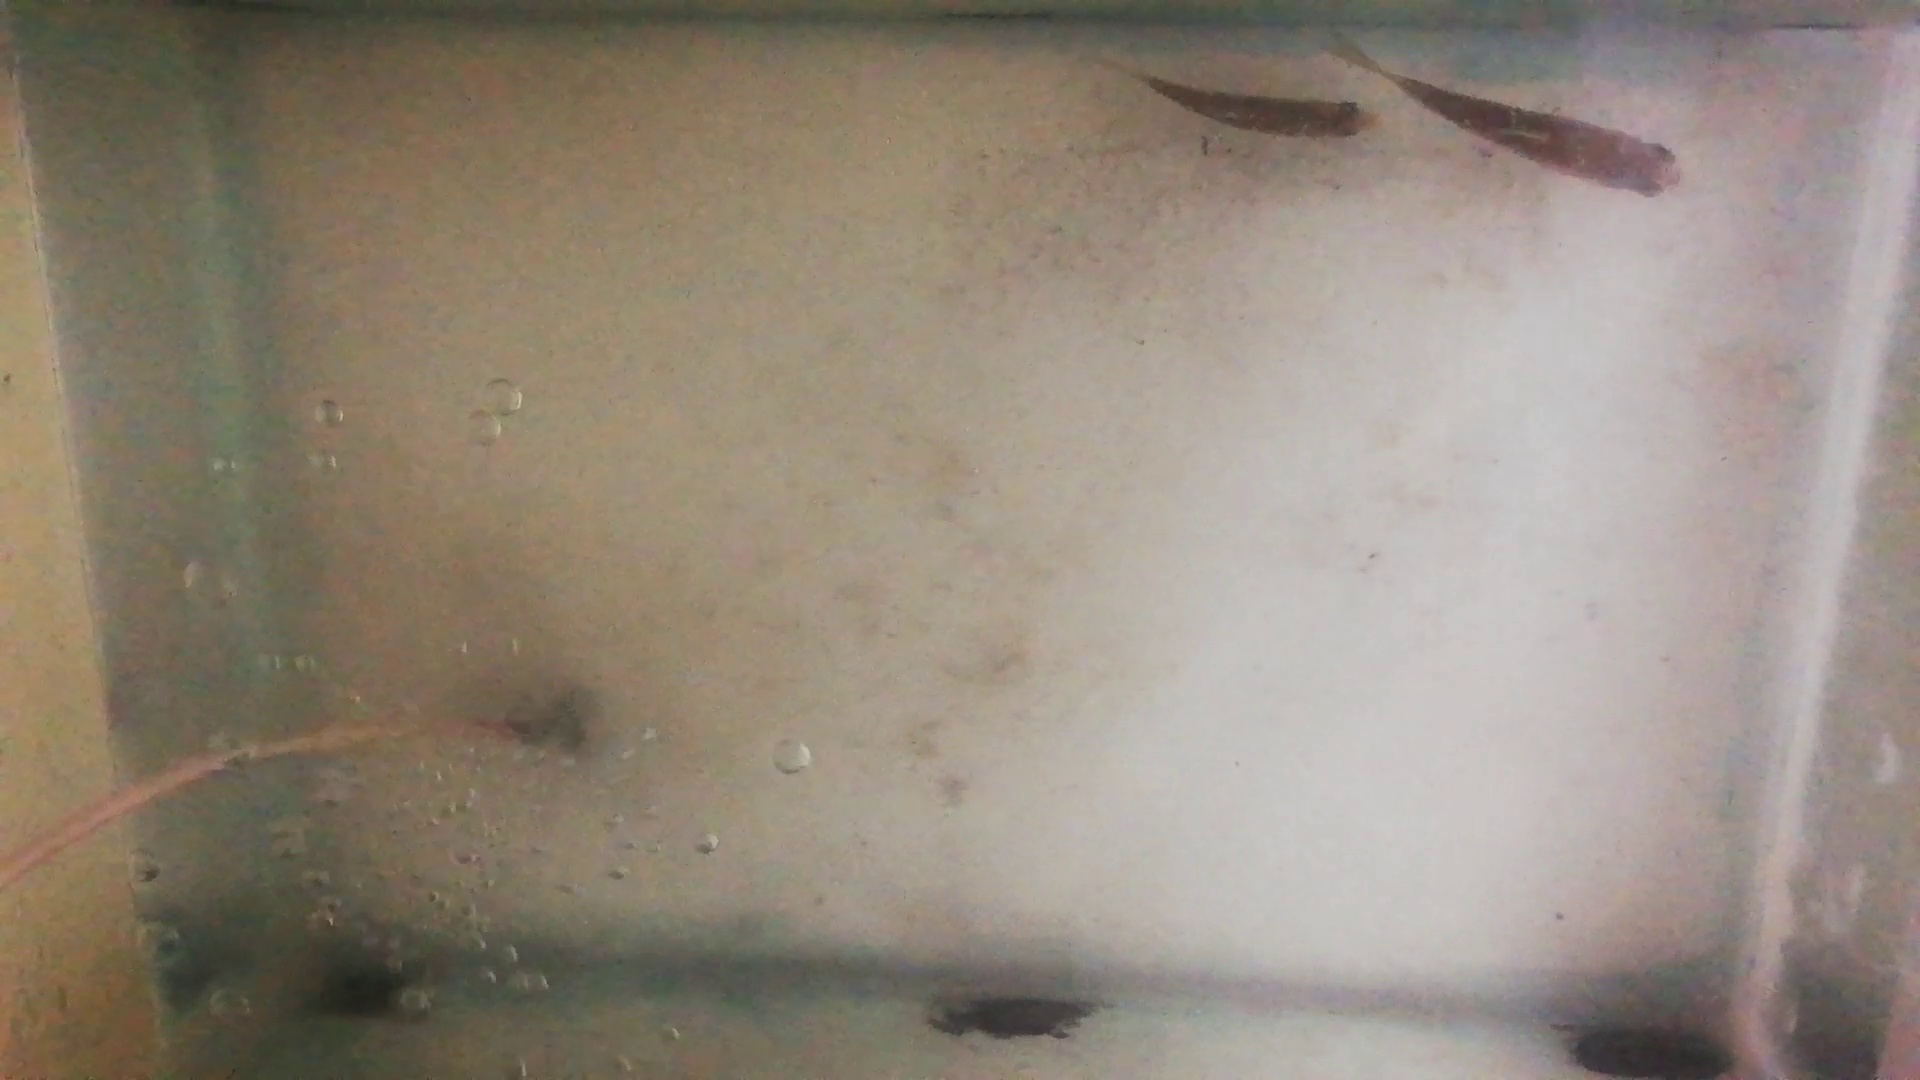fish: (1385, 65, 1683, 200), (1139, 75, 1383, 140)
